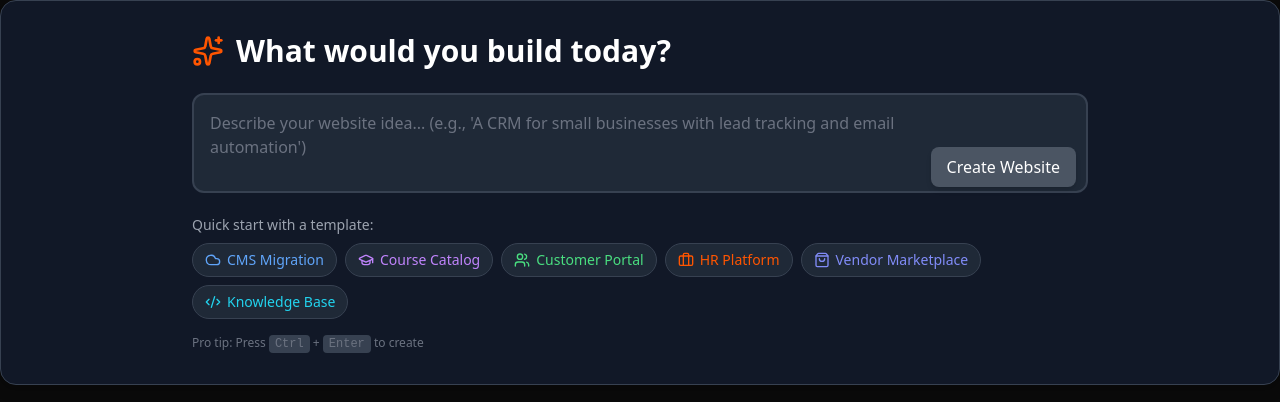
Scenario: AIPromptSection › should enable create button when prompt has content
The image size is (1280, 402).
Step 1. Type "A CRM for small businesses" into the text box with placeholder "Describe your website idea" → x=640, y=143, box [192,93,1088,193]
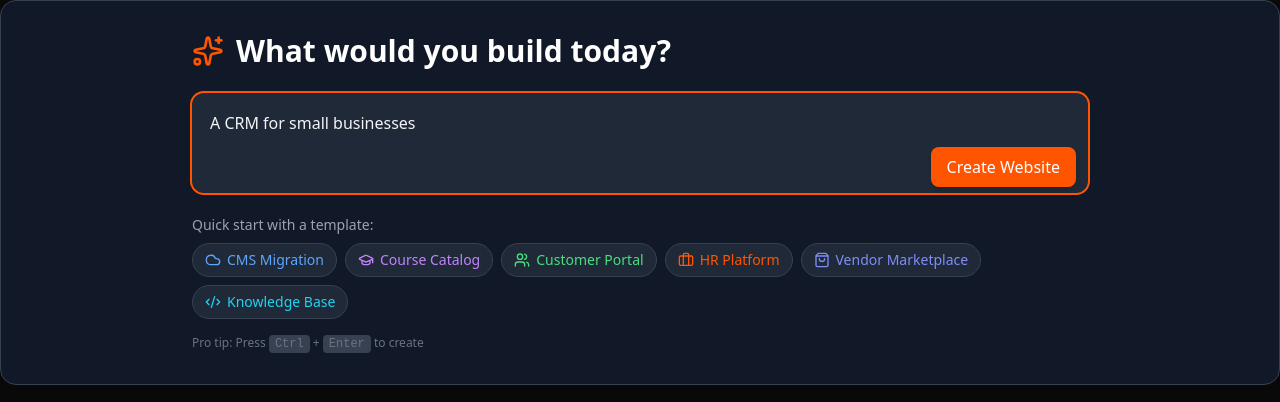
Now the button "Create Website" is enabled, box [931,147,1076,187]
